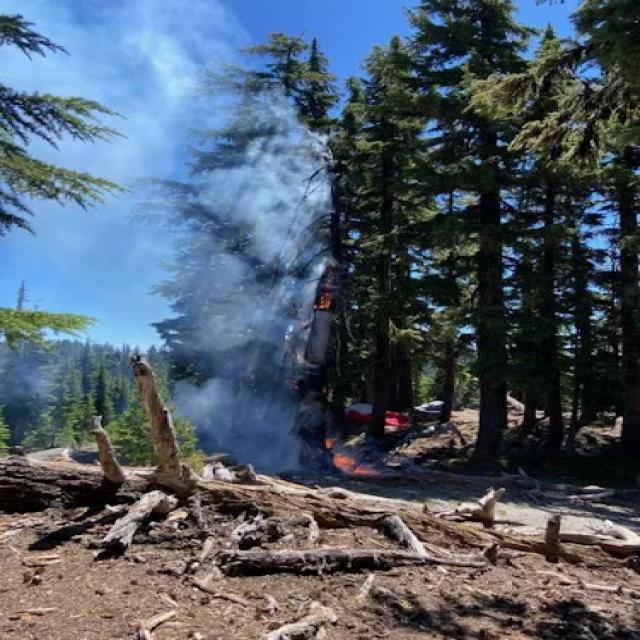Smoke: (82, 9, 334, 472)
